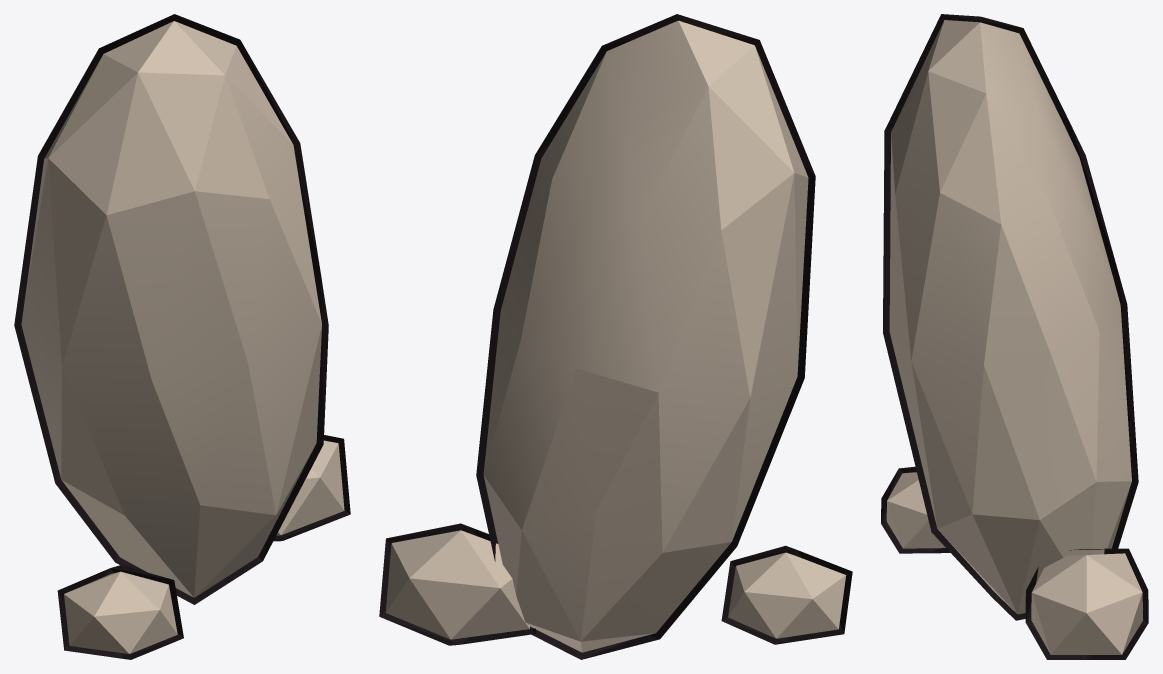
Rendered from SM_Rock_03.fbx.
3 renders of one model, left to right at view 1: azimuth 30°, elevation 25°; view 2: azimuth 150°, elevation 25°; view 3: azimuth 270°, elevation 25°, orthographic. The views are drawn at different scales.
Visible parts, largest first — view 1: SM_Rock_03; view 2: SM_Rock_03; view 3: SM_Rock_03.
Boxes of the visible parts, x1,y1,x2,y2 form: SM_Rock_03: (14,14,350,659); SM_Rock_03: (379,14,852,659); SM_Rock_03: (881,14,1148,659).
Size of the model in its own units: 1.74 by 2.79 by 1.18.
